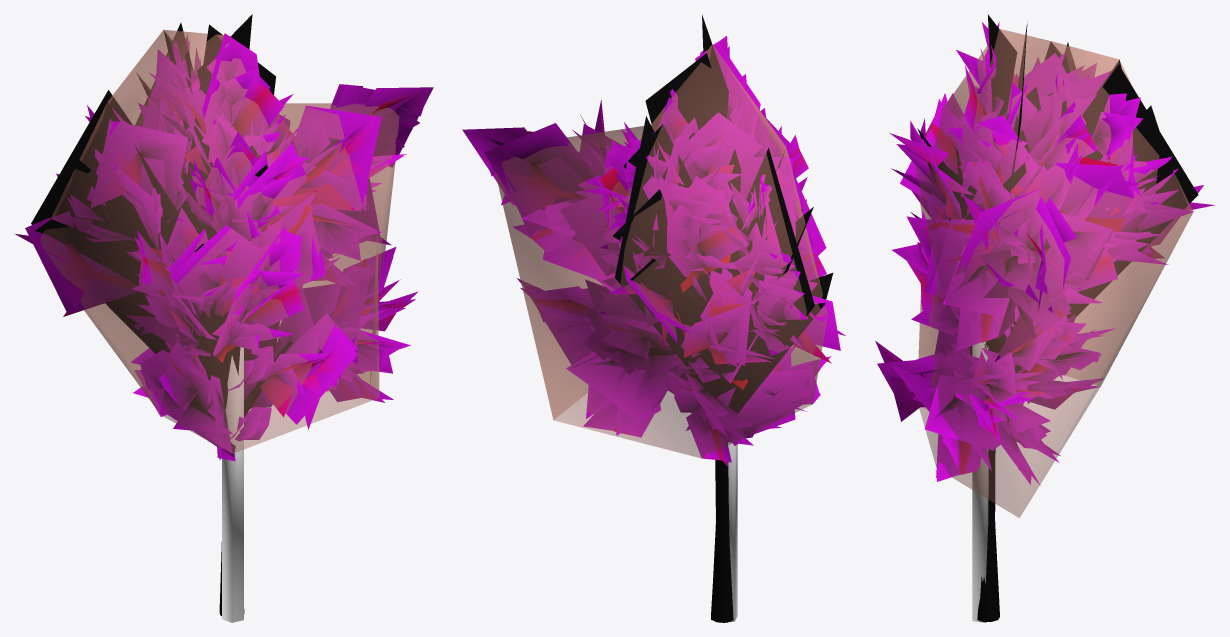
File: tree_aspen_large_b.dae
The picture shows the model from 3 angles, left to right: view 1: azimuth 30°, elevation 25°; view 2: azimuth 150°, elevation 25°; view 3: azimuth 270°, elevation 25°; orthographic projection. The views are drawn at different scales.
Parts seen in each view (by area): view 1: Colmesh_large02-1, Birch_Large_02_a600, Birch_Large_02_a1800; view 2: Colmesh_large02-1, Birch_Large_02_a600, Birch_Large_02_a1800; view 3: Colmesh_large02-1, Birch_Large_02_a600, Birch_Large_02_a1800.
Boxes of the visible parts, x1=… form: Colmesh_large02-1: x1=40, y1=29, x2=399, y2=622; Birch_Large_02_a600: x1=25, y1=23, x2=433, y2=613; Birch_Large_02_a1800: x1=14, y1=14, x2=429, y2=615; Colmesh_large02-1: x1=490, y1=44, x2=827, y2=621; Birch_Large_02_a600: x1=462, y1=41, x2=840, y2=622; Birch_Large_02_a1800: x1=477, y1=15, x2=845, y2=622; Colmesh_large02-1: x1=915, y1=29, x2=1192, y2=622; Birch_Large_02_a600: x1=877, y1=21, x2=1203, y2=621; Birch_Large_02_a1800: x1=875, y1=14, x2=1215, y2=621.
Bounding box in the file's own units: 6.88 × 5.06 × 10.07.
